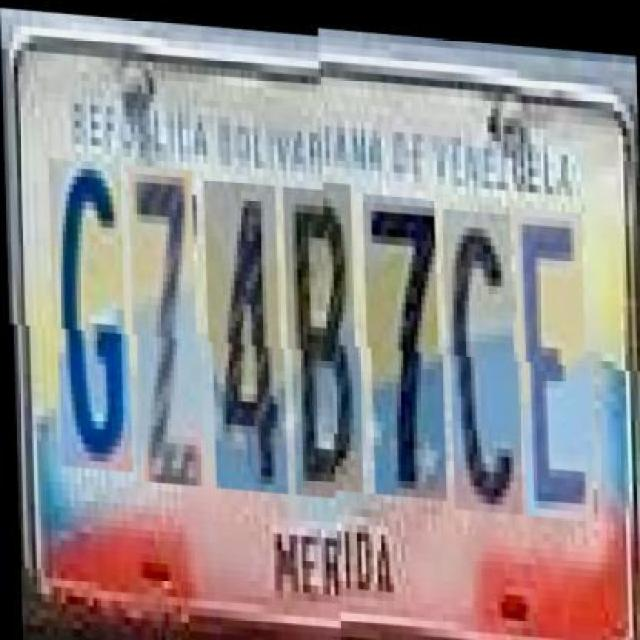4: (206, 176, 286, 489)
7: (365, 195, 444, 500)
b: (286, 180, 362, 494)
c: (446, 209, 520, 513)
e: (516, 206, 592, 519)
g: (51, 158, 131, 470)
z: (130, 163, 202, 483)
